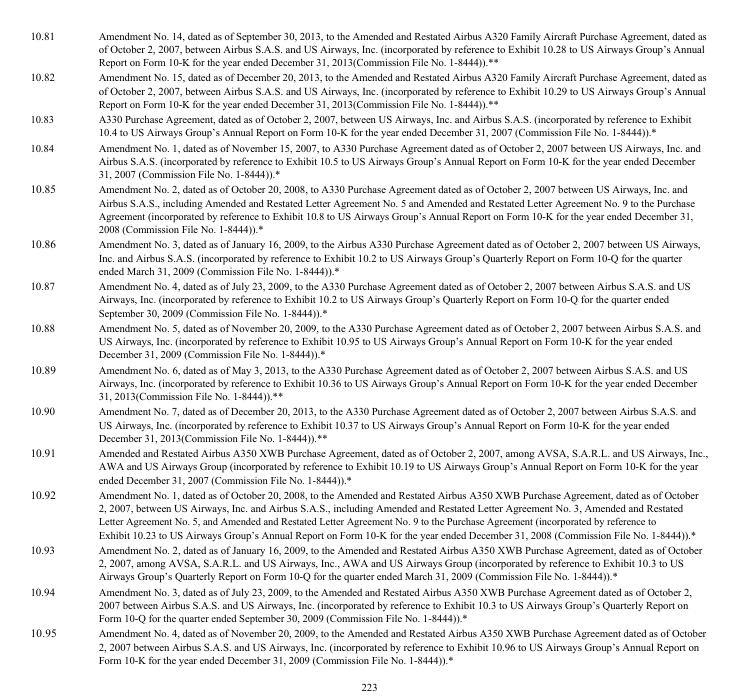table: (29, 28, 707, 665)
table column: (76, 28, 707, 665), (29, 28, 76, 665)
table row: (29, 180, 707, 235), (29, 486, 707, 541), (29, 235, 707, 277), (29, 277, 707, 319), (29, 319, 707, 361), (29, 361, 707, 403), (29, 444, 707, 486), (29, 541, 707, 583), (29, 28, 707, 69), (29, 69, 707, 110), (29, 139, 707, 180), (29, 403, 707, 444), (29, 583, 707, 624), (29, 624, 707, 665), (29, 110, 707, 139)
